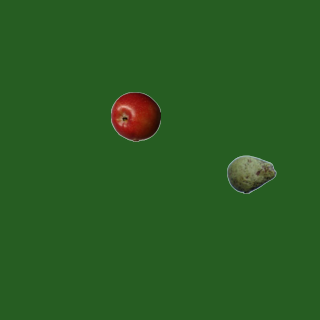Apple Braeburn: (110, 91, 160, 141)
Pear Stone: (226, 149, 276, 199)
